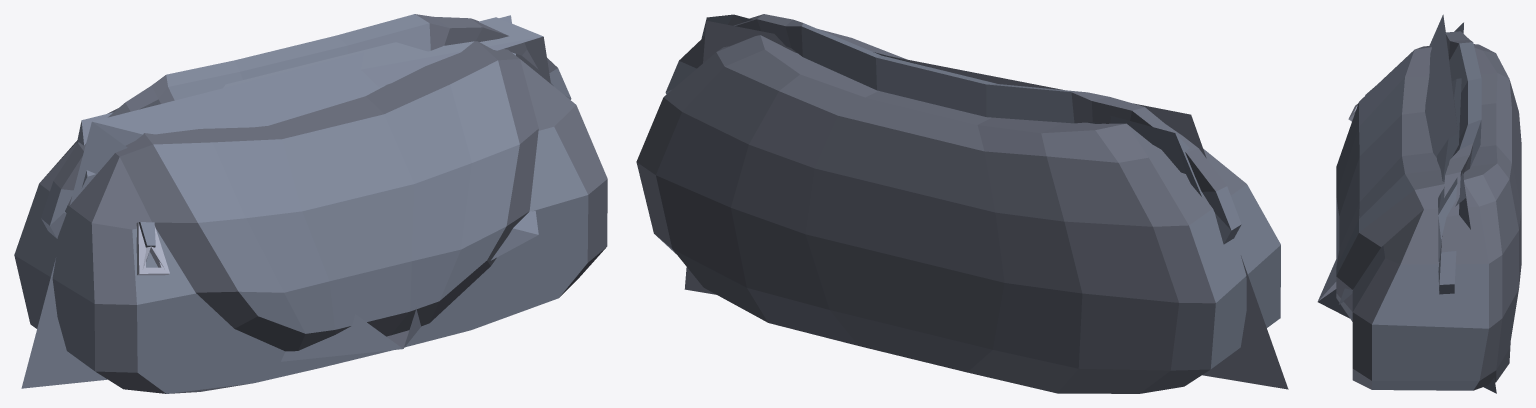
Rendered from Backpacks.fbx.
The picture shows the model from 3 angles, left to right: view 1: azimuth 30°, elevation 25°; view 2: azimuth 150°, elevation 25°; view 3: azimuth 270°, elevation 25°; orthographic projection. The views are drawn at different scales.
Parts seen in each view (by area): view 1: Backpacks_LOD0, Backpacks_COL; view 2: Backpacks_LOD0, Backpacks_COL; view 3: Backpacks_LOD0, Backpacks_COL.
Part boxes in pixels (x1,y1,x2,y2): Backpacks_LOD0: (14, 14, 607, 393); Backpacks_COL: (21, 15, 550, 388); Backpacks_LOD0: (636, 14, 1280, 393); Backpacks_COL: (684, 14, 1288, 389); Backpacks_LOD0: (1336, 31, 1521, 390); Backpacks_COL: (1317, 14, 1496, 393).
Size of what is drawn, in the model's own units: 1.41 by 0.6349 by 0.5289.
